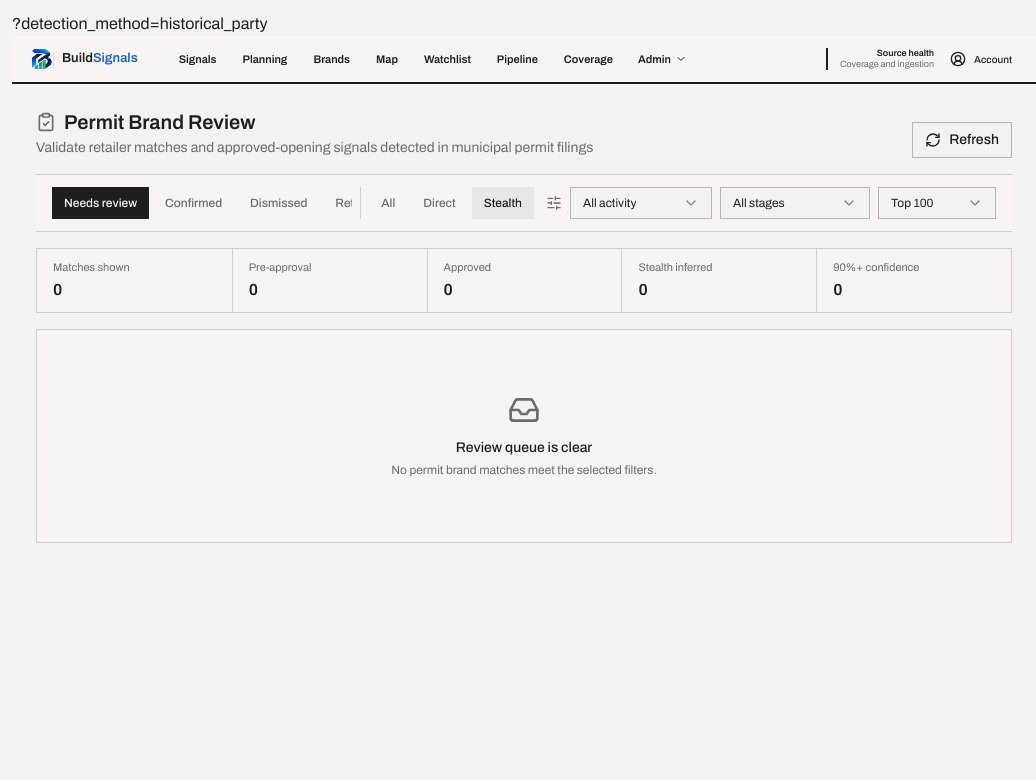
<PermitBrandReview> › honors and persists the stealth detection method filter
This screenshot has width=1036, height=780.
Click the button "Direct" at (440, 203), box [411, 187, 468, 219]
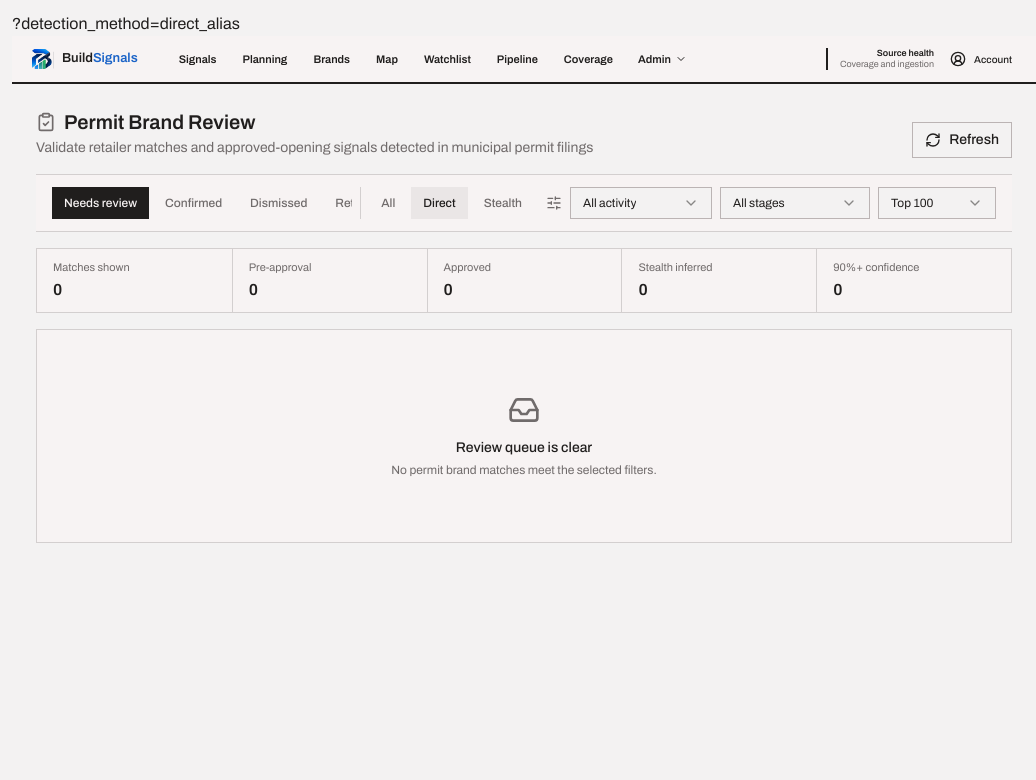
Now the text with test id "location-probe" shows "detection_method=direct_alias", box [12, 15, 240, 32]
